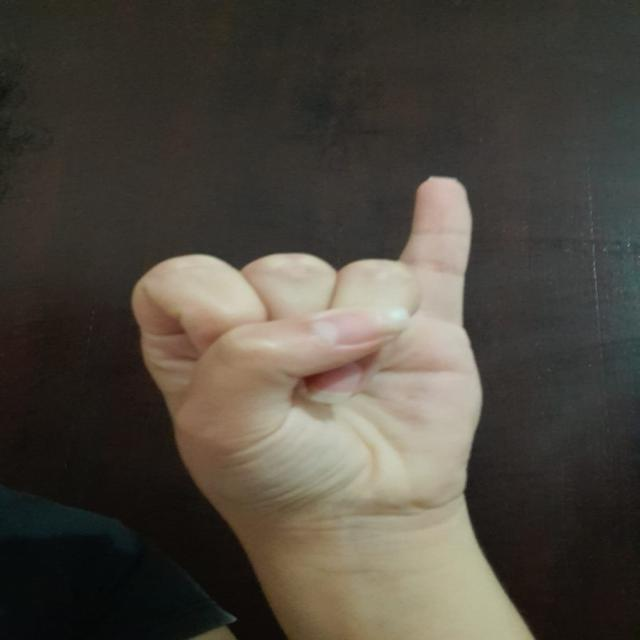I: (114, 168, 491, 504)
